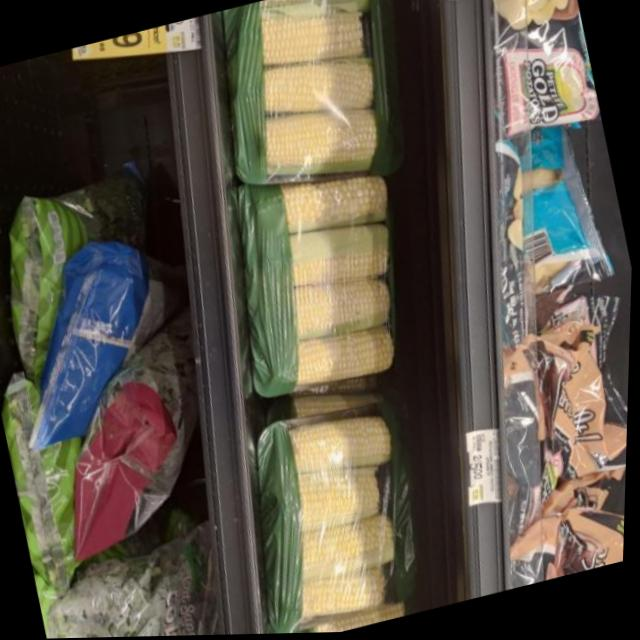Corn: (207, 158, 444, 418), (227, 404, 442, 636), (203, 0, 424, 208)
Salad: (31, 514, 230, 639)
